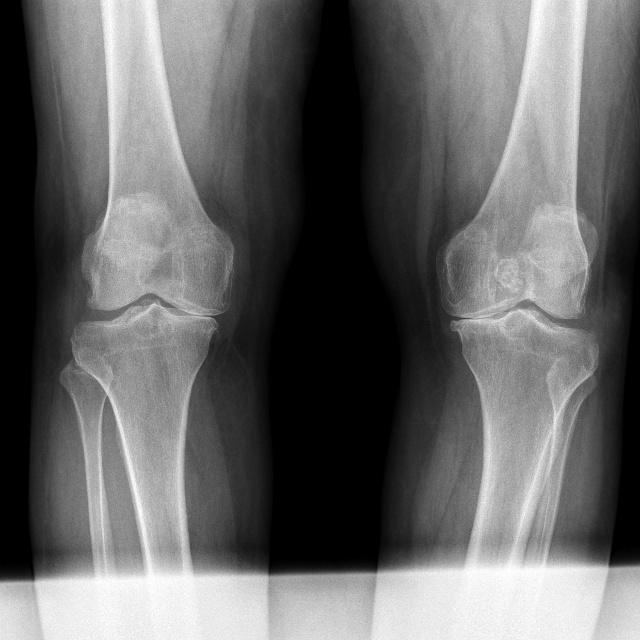Knee: (438, 249, 603, 373), (73, 252, 229, 367)
